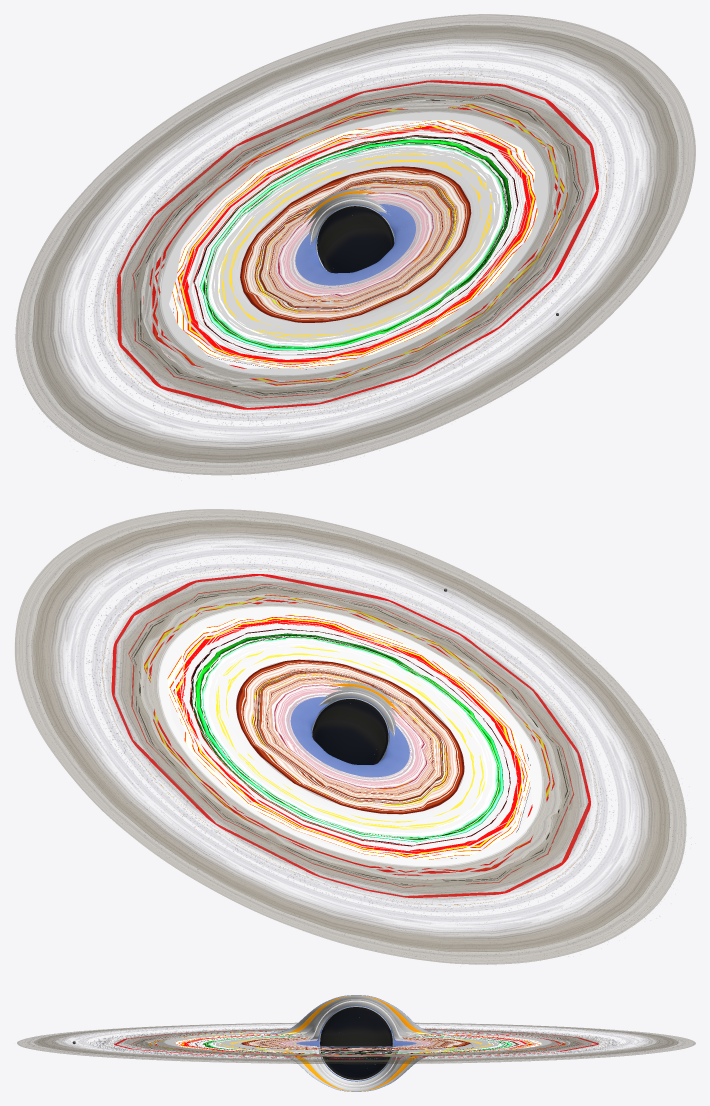
The model's file is blackhole.glb.
3 views of the same model, one above another, from view 1: azimuth 30°, elevation 25°; view 2: azimuth 150°, elevation 25°; view 3: azimuth 270°, elevation 25° (orthographic). The views are drawn at different scales.
Visible parts, largest first — view 1: black hole_ring_ring_0, black hole_black hole blackoutside_0, black hole_black hole light3_0, black hole_black hole light2_0, black hole_black hole center_0, black hole_black hole light1_0; view 2: black hole_ring_ring_0, black hole_black hole blackoutside_0, black hole_black hole light3_0, black hole_black hole light2_0, black hole_black hole center_0, black hole_black hole light1_0; view 3: black hole_ring_ring_0, black hole_black hole blackoutside_0, black hole_black hole light3_0, black hole_black hole center_0, black hole_black hole light2_0, black hole_black hole light1_0, black hole_ring_ring2_0.
Part boxes in pixels (<box>): black hole_ring_ring_0: <box>15,14,695,475</box>; black hole_black hole blackoutside_0: <box>133,94,577,394</box>; black hole_black hole light3_0: <box>104,74,606,414</box>; black hole_black hole light2_0: <box>240,166,471,322</box>; black hole_black hole center_0: <box>317,206,394,273</box>; black hole_black hole light1_0: <box>295,187,415,285</box>; black hole_ring_ring_0: <box>15,509,686,964</box>; black hole_black hole blackoutside_0: <box>131,588,569,885</box>; black hole_black hole light3_0: <box>102,569,598,904</box>; black hole_black hole light2_0: <box>236,659,464,814</box>; black hole_black hole center_0: <box>312,699,388,764</box>; black hole_black hole light1_0: <box>290,680,409,777</box>; black hole_ring_ring_0: <box>17,1023,695,1063</box>; black hole_black hole blackoutside_0: <box>135,995,577,1091</box>; black hole_black hole light3_0: <box>106,995,606,1091</box>; black hole_black hole center_0: <box>320,1007,392,1079</box>; black hole_black hole light2_0: <box>241,1000,471,1086</box>; black hole_black hole light1_0: <box>246,995,478,1091</box>; black hole_ring_ring2_0: <box>88,1027,622,1059</box>.
Size of what is drawn, in the model's own units: 3097 by 1220 by 3298.
8 materials, 7 textured.
